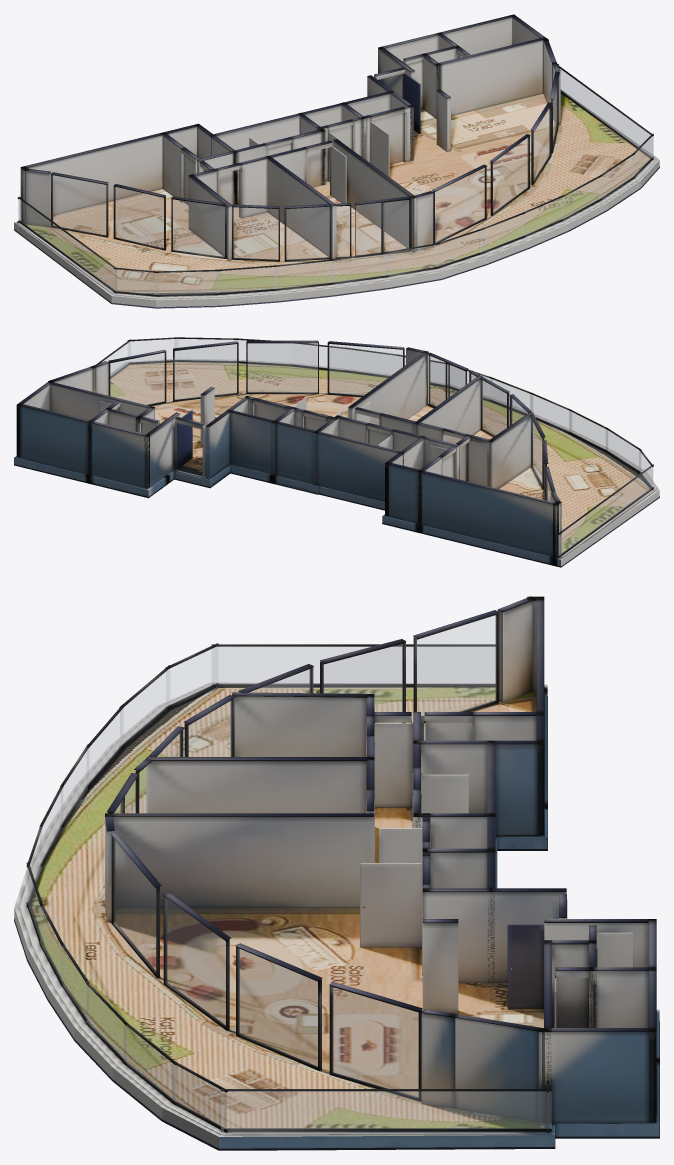
3 views of the same model, one above another, from view 1: azimuth 30°, elevation 25°; view 2: azimuth 150°, elevation 25°; view 3: azimuth 270°, elevation 25° (orthographic). The views are drawn at different scales.
Parts seen in each view (by area): view 1: plan, glass0_m, glass2_m, glass6_m, glass7_m, glass1_m, glass3_m, glass4_m, railg3_m, railg2_m, glass8_m, railg14_m (+13 smaller); view 2: plan, glass8_m, glass7_m, glass9_m, glass10_m, railg3_m, glass6_m, glass4_m, railg5_m, railg7_m, railg8_m, railg6_m (+8 smaller); view 3: plan, railg2_m, railg3_m, glass10_m, glass9_m, glass0_m, glass8_m, glass1_m, glass7_m, railg4_m, railg15_m, railg5_m (+8 smaller).
Part boxes in pixels (<box>): plan: <box>14,14,659,308</box>; glass0_m: <box>52,175,105,235</box>; glass2_m: <box>173,199,224,256</box>; glass6_m: <box>355,200,408,255</box>; glass7_m: <box>435,168,484,242</box>; glass1_m: <box>115,187,163,248</box>; glass3_m: <box>233,207,278,259</box>; glass4_m: <box>286,207,329,259</box>; railg3_m: <box>19,199,116,291</box>; railg2_m: <box>560,69,653,157</box>; glass8_m: <box>493,138,528,212</box>; railg14_m: <box>154,271,220,294</box>; plan: <box>14,337,659,567</box>; glass8_m: <box>248,343,317,392</box>; glass7_m: <box>329,344,402,395</box>; glass9_m: <box>175,344,236,399</box>; glass10_m: <box>110,353,164,404</box>; railg3_m: <box>558,467,653,555</box>; glass6_m: <box>429,356,465,406</box>; glass4_m: <box>482,380,506,435</box>; railg5_m: <box>175,339,238,360</box>; railg7_m: <box>294,344,344,369</box>; railg8_m: <box>349,350,396,375</box>; railg6_m: <box>234,340,290,363</box>; plan: <box>14,596,659,1150</box>; railg2_m: <box>221,1091,551,1128</box>; railg3_m: <box>212,647,494,683</box>; glass10_m: <box>332,987,418,1097</box>; glass9_m: <box>239,949,317,1066</box>; glass0_m: <box>417,615,496,715</box>; glass8_m: <box>166,898,225,1026</box>; glass1_m: <box>324,644,402,711</box>; glass7_m: <box>114,839,155,972</box>; railg4_m: <box>172,1063,226,1129</box>; railg15_m: <box>166,647,217,706</box>; railg5_m: <box>124,1024,175,1101</box>.
Bounding box in the file's own units: 24.16 × 2.62 × 14.5.
2 materials, 1 textured.
